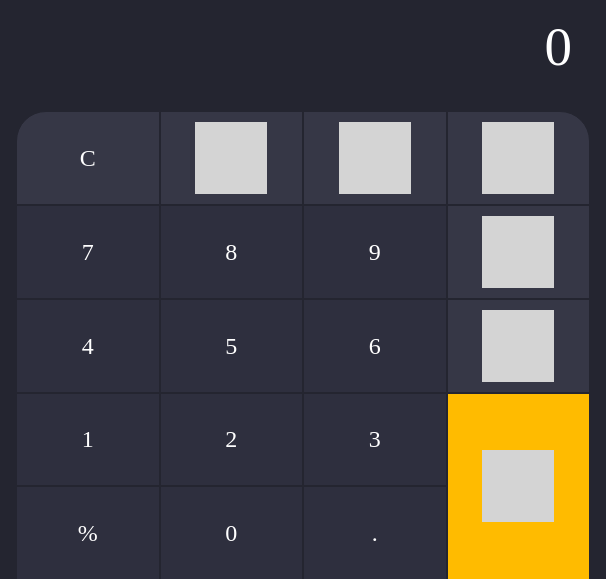
Calculator tests › Button and Diplay link
Click the button "1" at point(88, 439), box [16,392,160,486]
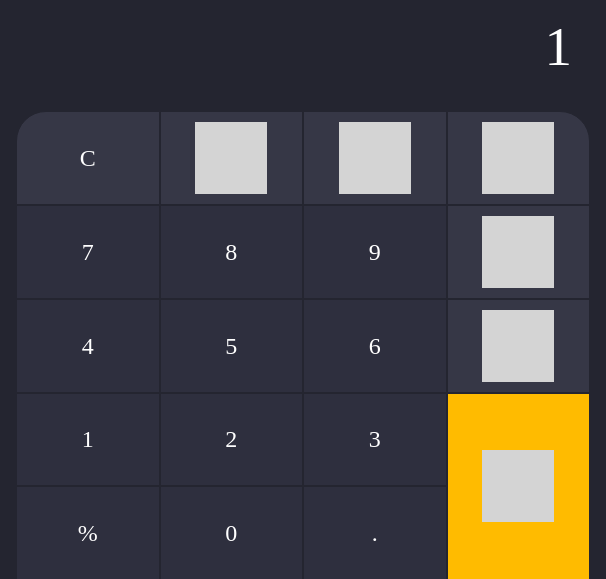
Check: the text with test id "expression" reads "1", box [544,16,572,77]
